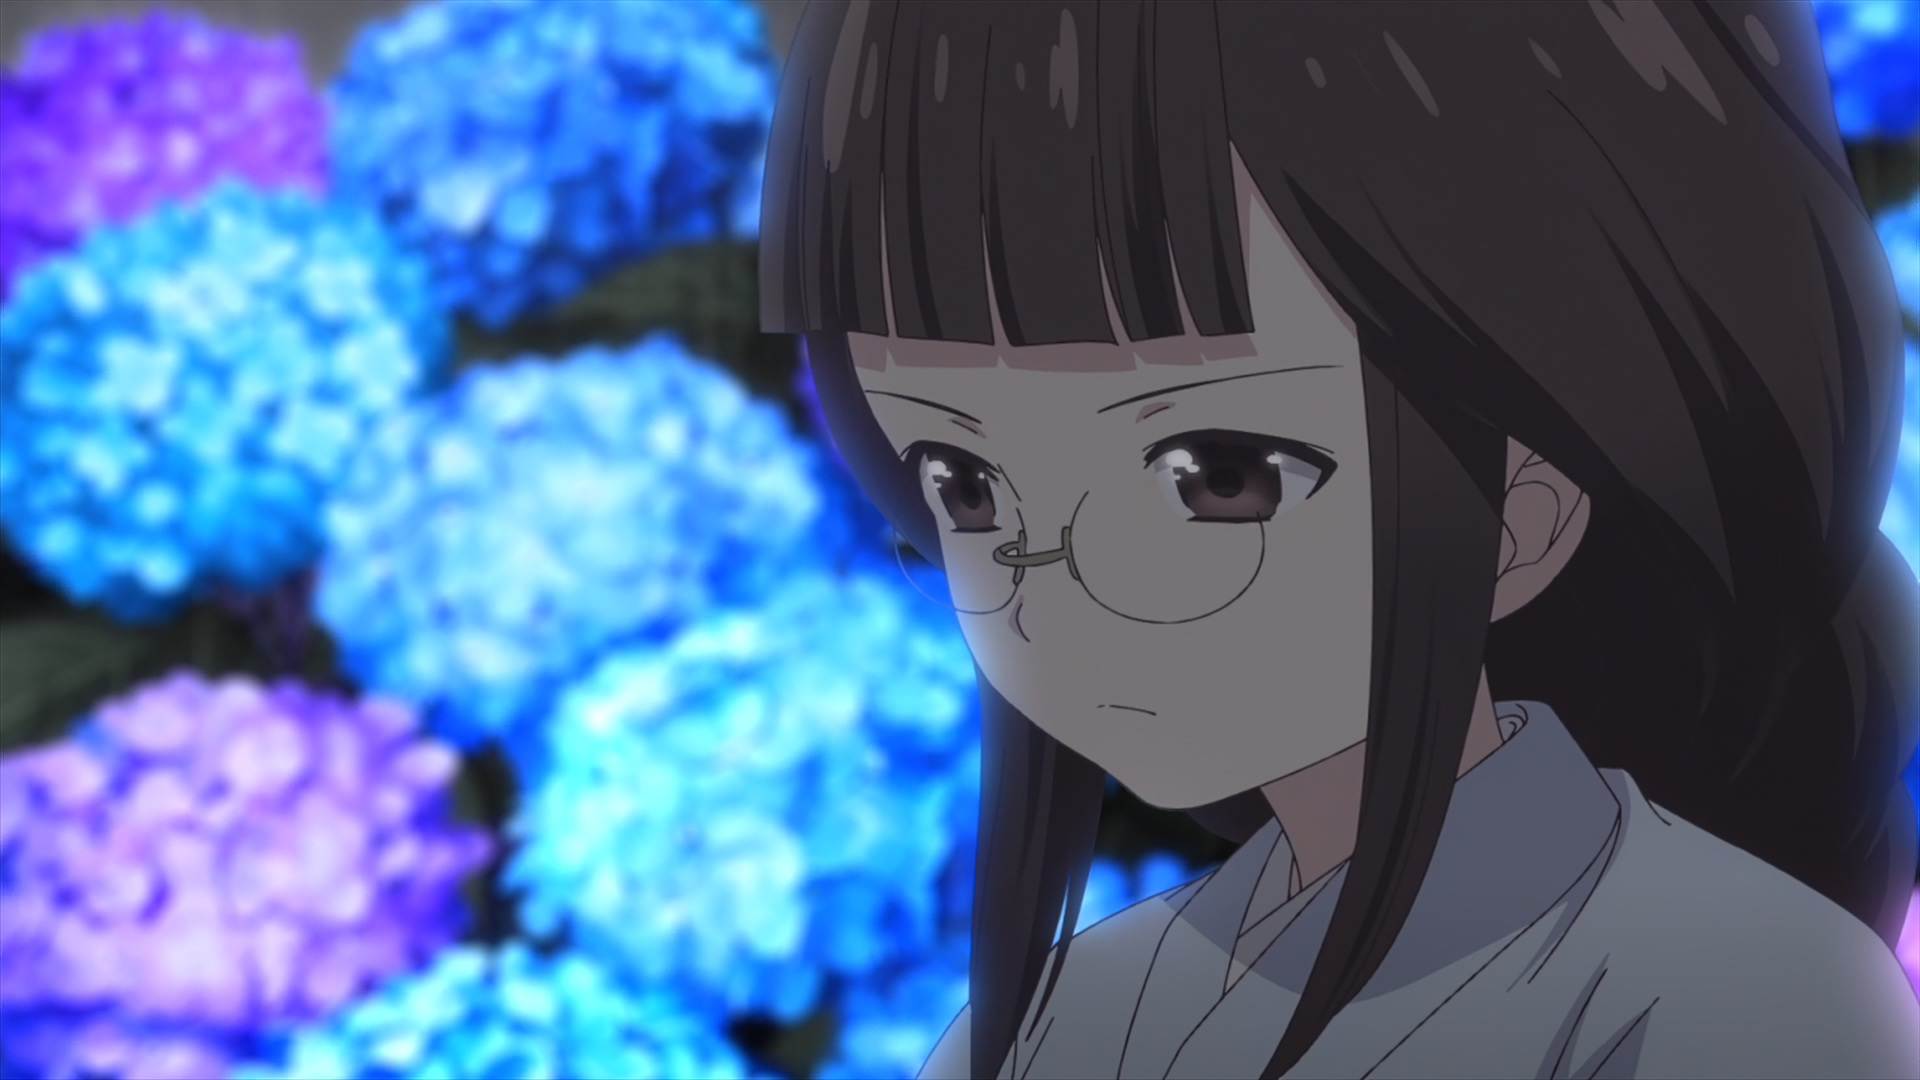其他: (757, 1, 1920, 1080)
